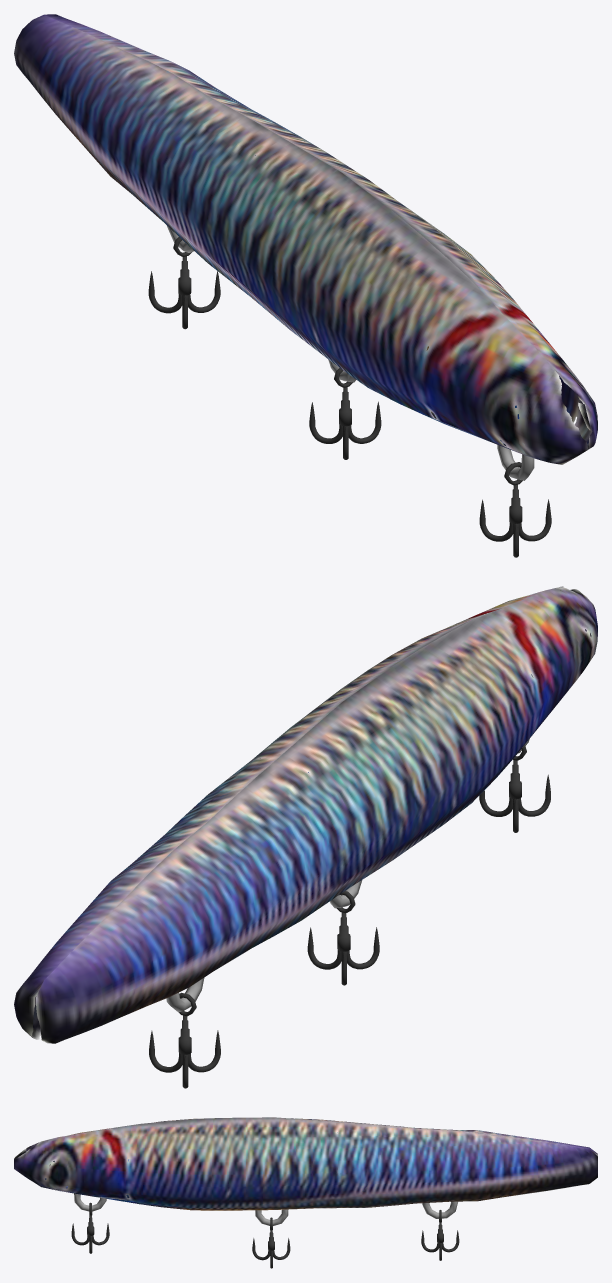
File: LureBoss.fbx
3 views of the same model, one above another, from view 1: azimuth 30°, elevation 25°; view 2: azimuth 150°, elevation 25°; view 3: azimuth 270°, elevation 25° (orthographic). The views are drawn at different scales.
Parts seen in each view (by area): view 1: Body, PHook1, PHook3, PHook2; view 2: Body, PHook3, PHook2, PHook1; view 3: Body, PHook1, PHook3, PHook2.
Boxes of the visible parts, box(x1,y1,x2,y2) form: Body: box(14, 14, 597, 480); PHook1: box(479, 462, 551, 557); PHook3: box(148, 237, 220, 329); PHook2: box(309, 368, 381, 459); Body: box(14, 586, 597, 1043); PHook3: box(149, 992, 220, 1088); PHook2: box(307, 891, 379, 985); PHook1: box(479, 745, 550, 832); Body: box(14, 1117, 597, 1225); PHook1: box(71, 1202, 109, 1253); PHook3: box(421, 1210, 459, 1260); PHook2: box(252, 1217, 290, 1268).
Size of the model in its own units: 53.05 by 344 by 94.06.
